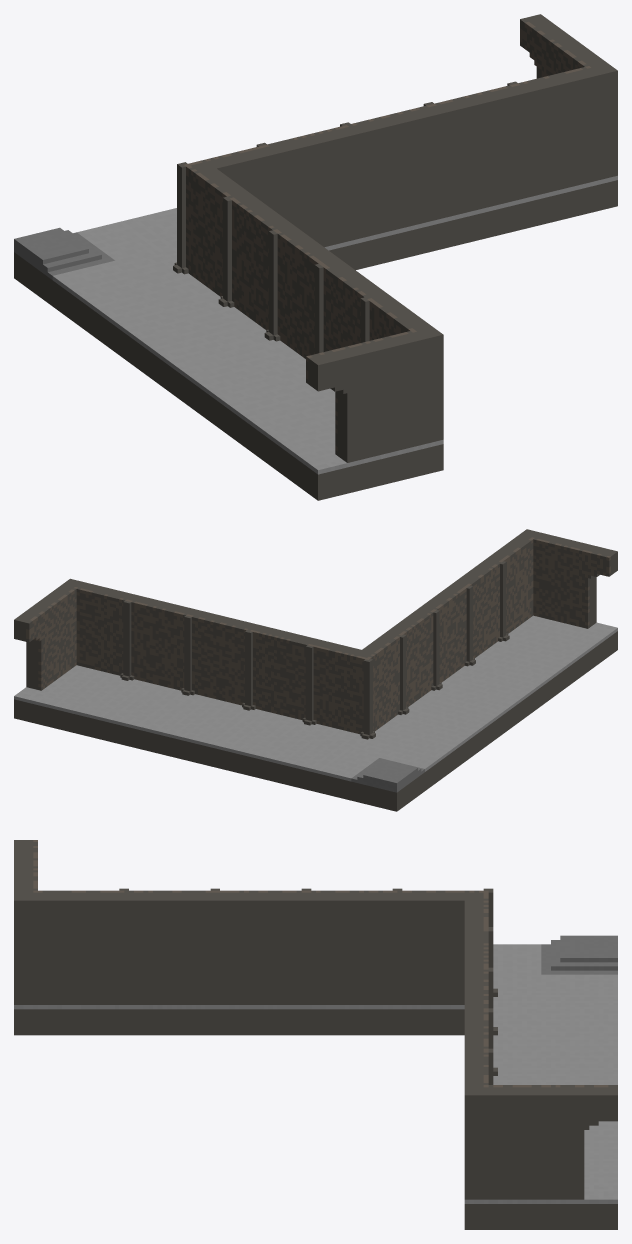
File: CrossRoom-0.obj
3 renders of one model, top to bottom at view 1: azimuth 30°, elevation 25°; view 2: azimuth 150°, elevation 25°; view 3: azimuth 270°, elevation 25°, orthographic. The views are drawn at different scales.
Size of the model in its own units: 12.6 by 3.1 by 12.6.
